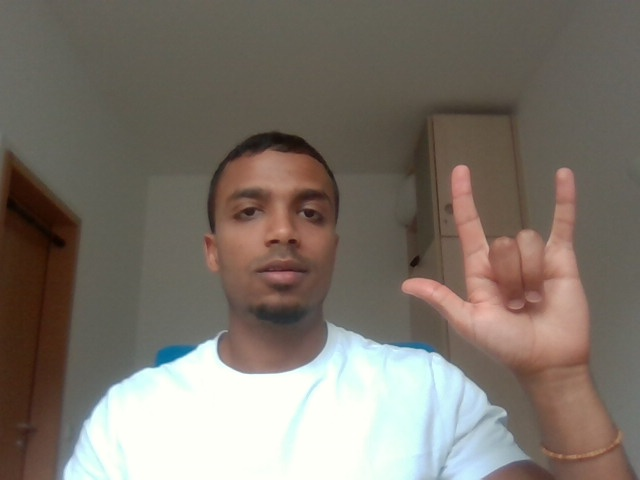absolutely: (398, 156, 621, 400)
